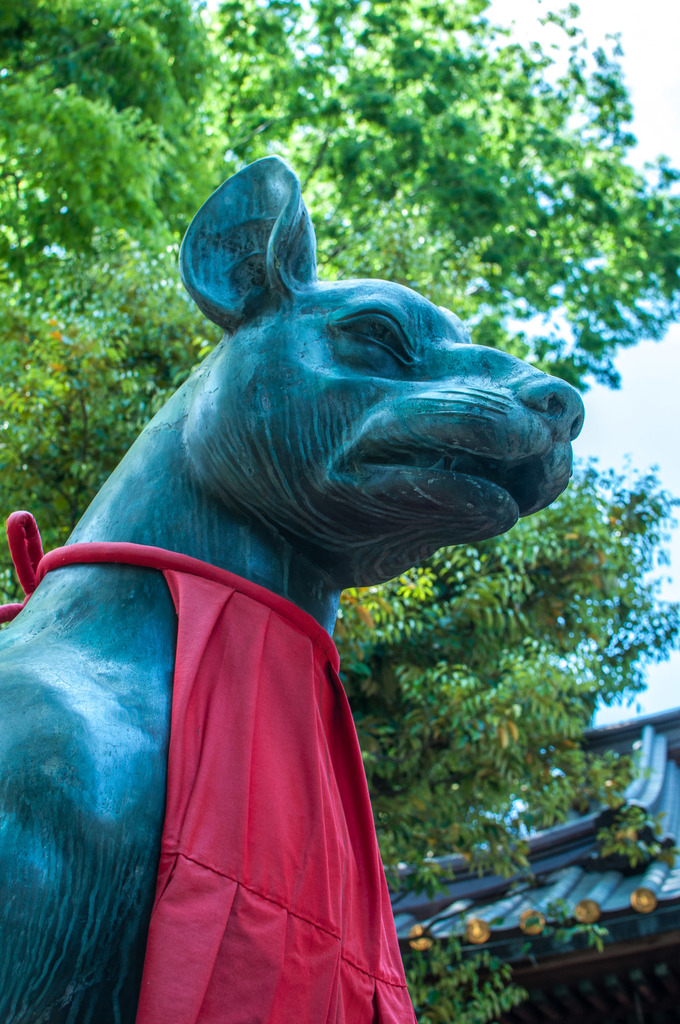Animal: (0, 151, 582, 1022)
